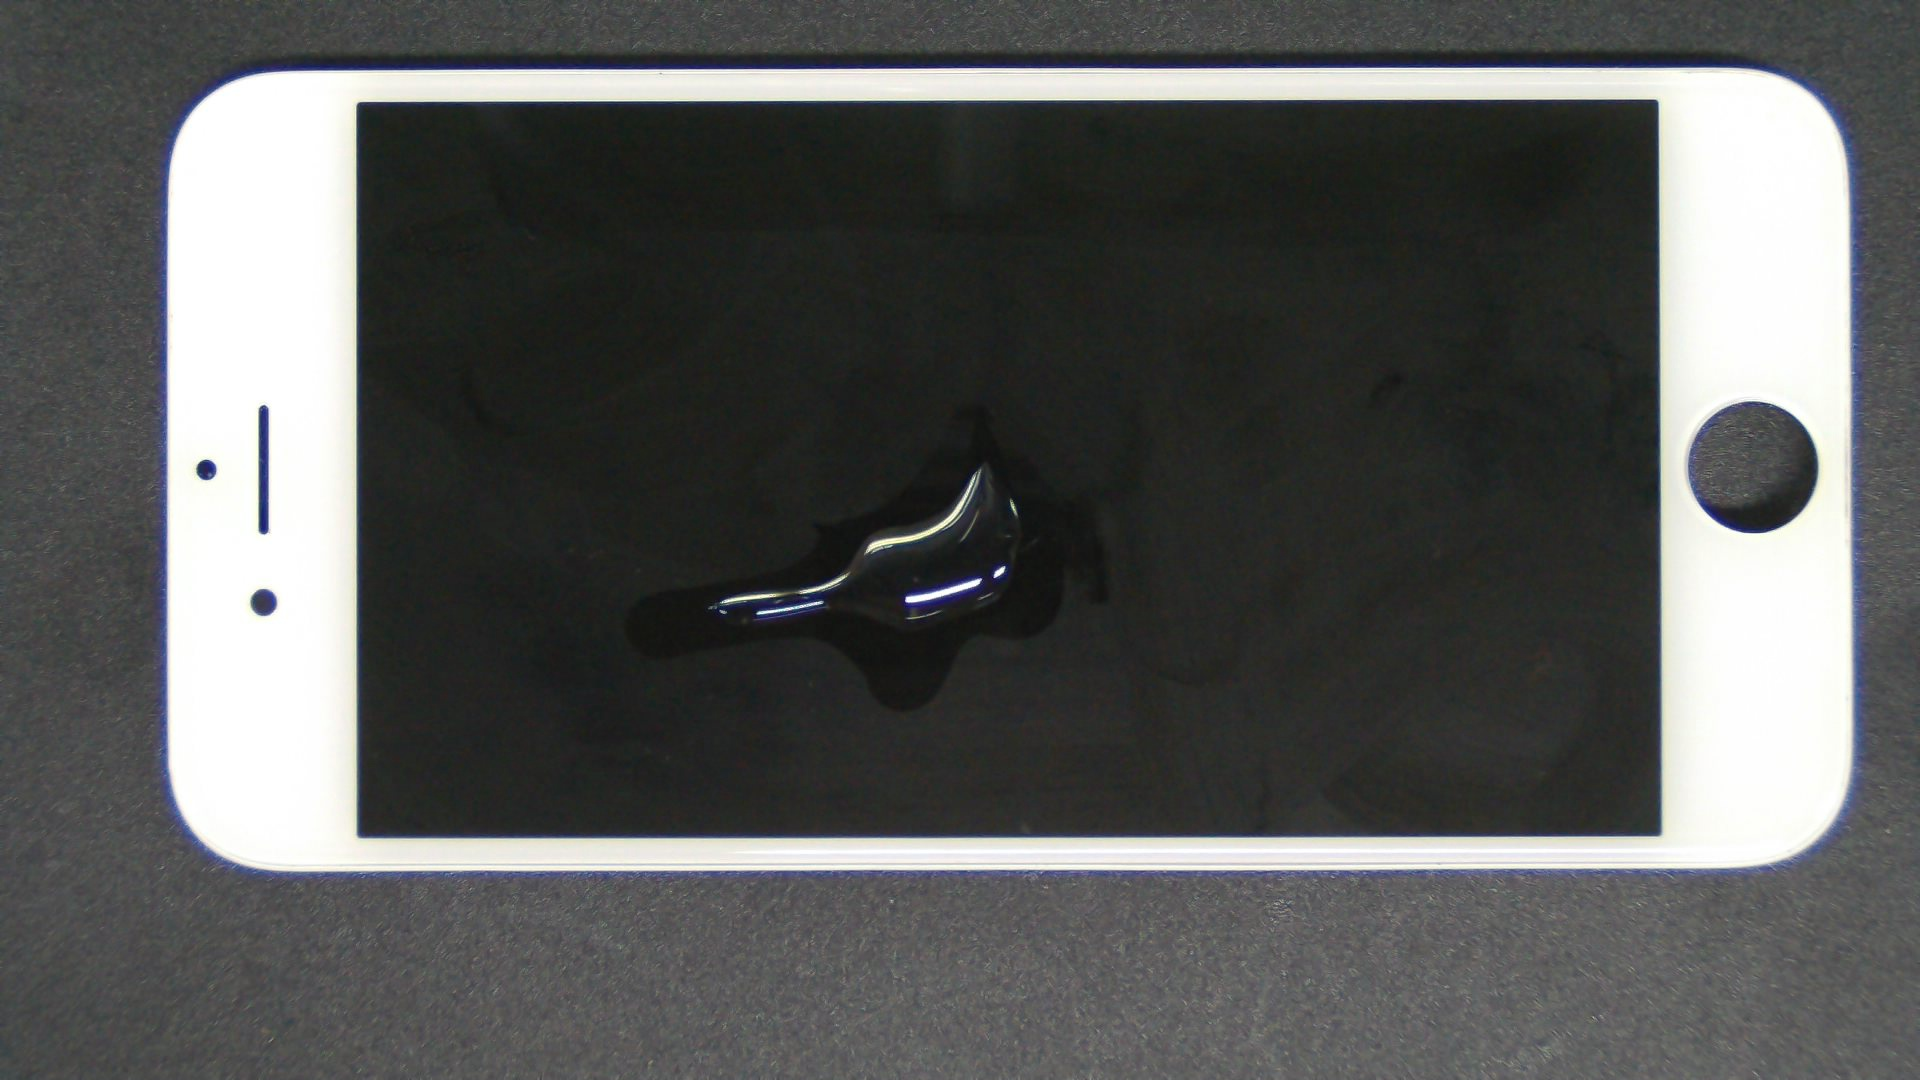oil: (488, 202, 1464, 608)
